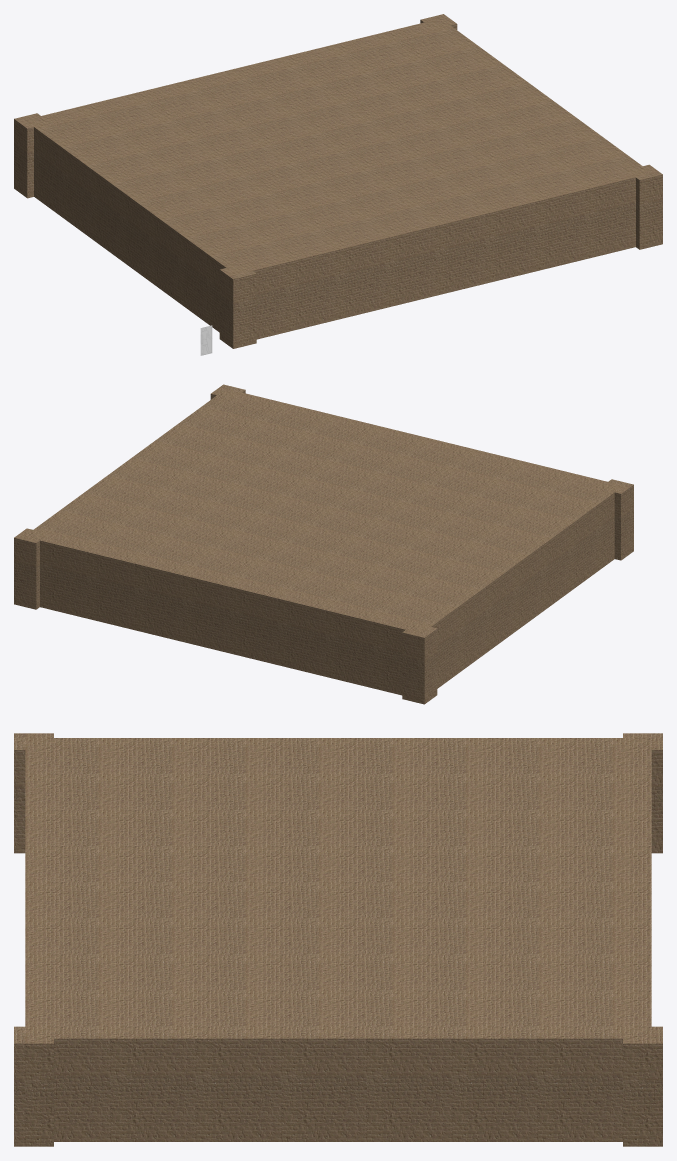
Rendered from Rest_House.glb.
3 views of the same model, one above another, from view 1: azimuth 30°, elevation 25°; view 2: azimuth 150°, elevation 25°; view 3: azimuth 270°, elevation 25° (orthographic). The views are drawn at different scales.
Parts seen in each view (by area): view 1: Mesh1 Model; view 2: Mesh1 Model; view 3: Mesh1 Model.
Part boxes in pixels (bbox=[...]): Mesh1 Model: bbox=[14, 14, 662, 348]; Mesh1 Model: bbox=[14, 384, 633, 704]; Mesh1 Model: bbox=[14, 733, 662, 1146].
Bounding box in the file's own units: 27.69 × 4 × 22.8.
Materials: 4 (3 with a texture image).
